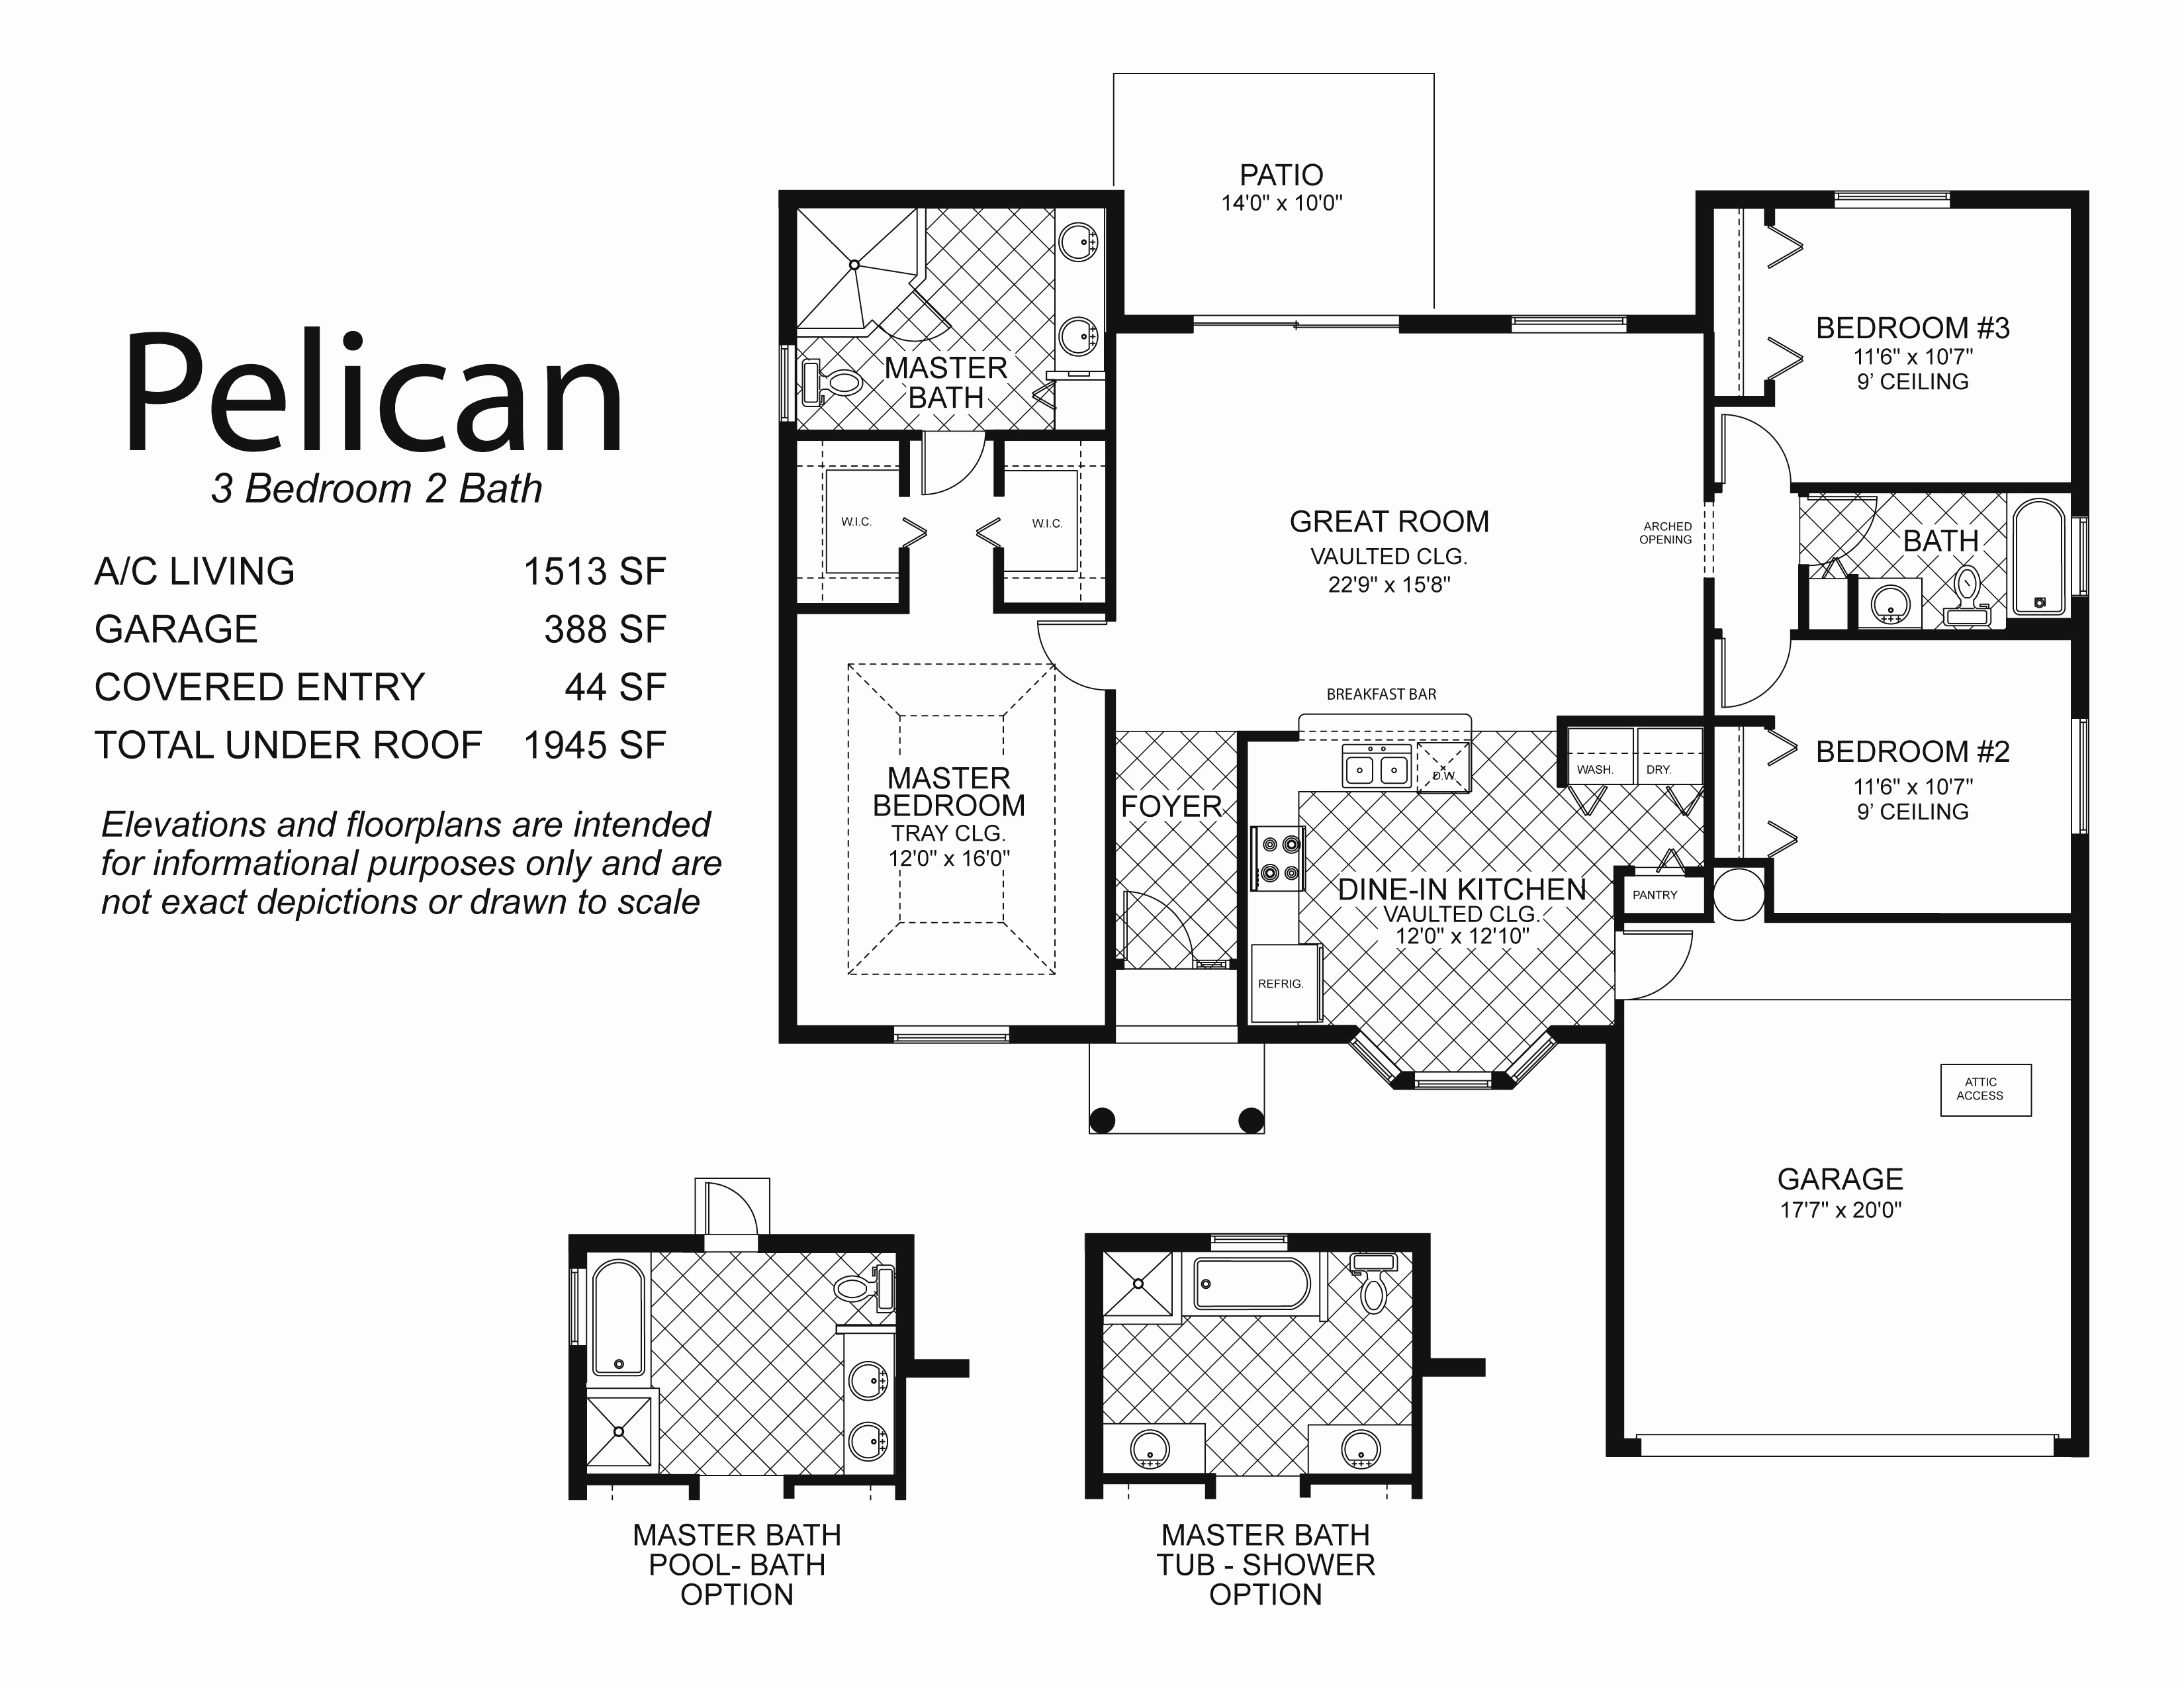window: (1189, 310, 1404, 340), (890, 1020, 1014, 1048), (1505, 312, 1631, 339), (2069, 716, 2095, 837), (1829, 188, 1954, 213), (1207, 1229, 1292, 1255), (2067, 514, 2092, 601), (1411, 1069, 1496, 1094), (567, 1264, 592, 1348), (778, 342, 799, 422)
